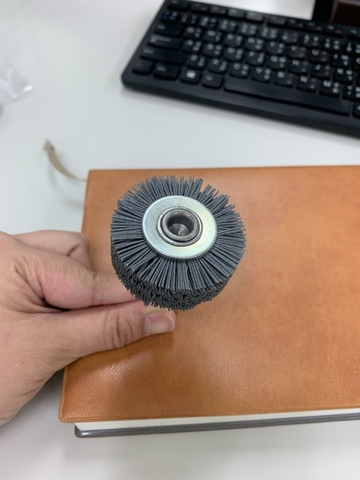Wheel Brush: (109, 167, 233, 327), (109, 172, 244, 317)
